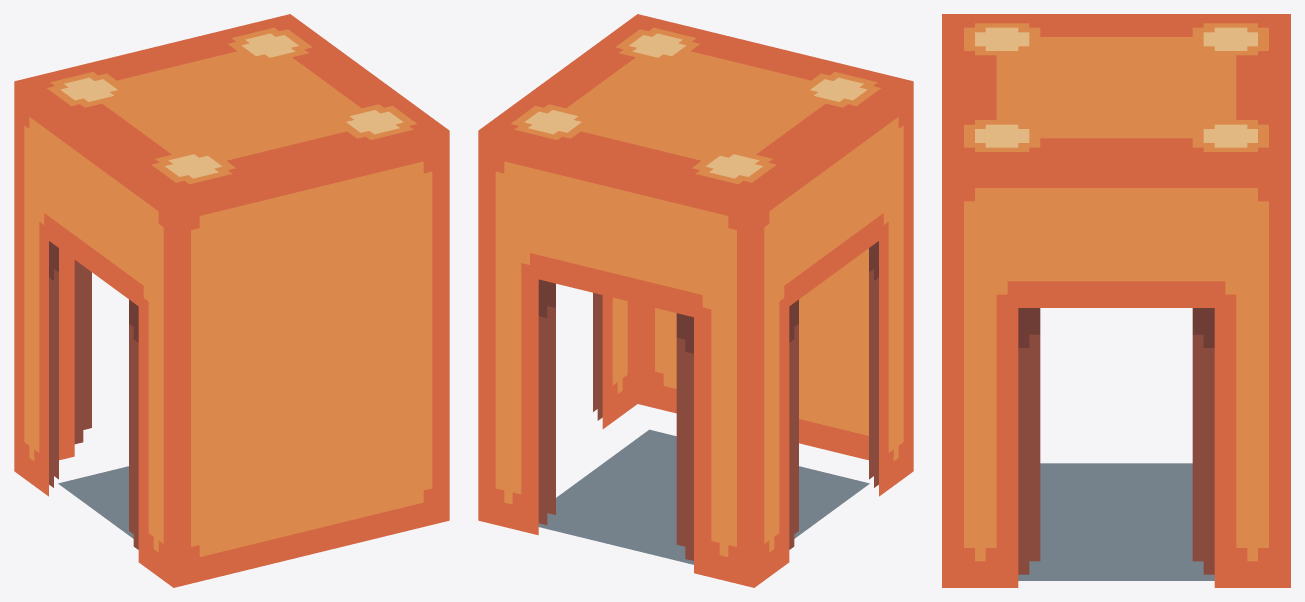
3 views of the same model, side by side, from view 1: azimuth 30°, elevation 25°; view 2: azimuth 150°, elevation 25°; view 3: azimuth 270°, elevation 25° (orthographic). The views are drawn at different scales.
Visible parts, largest first — view 1: 01_polygon0, 00_polygon1; view 2: 01_polygon0, 00_polygon1; view 3: 01_polygon0, 00_polygon1.
Part boxes in pixels (box(x1,y1,x2,y2)): 01_polygon0: box(14, 14, 449, 587); 00_polygon1: box(58, 466, 133, 538); 01_polygon0: box(478, 14, 913, 587); 00_polygon1: box(538, 429, 869, 564); 01_polygon0: box(942, 14, 1290, 587); 00_polygon1: box(1018, 463, 1214, 580).
Bounding box in the file's own units: 0.3125 × 0.4297 × 0.3125.
Materials: 1 (1 with a texture image).
